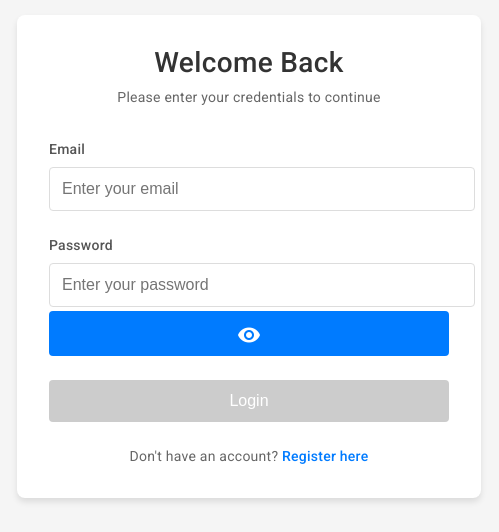
Test case: Login Flow › should validate email format in real-time
In the field named "email": (262, 189) [49,167,475,211], type "invalid"
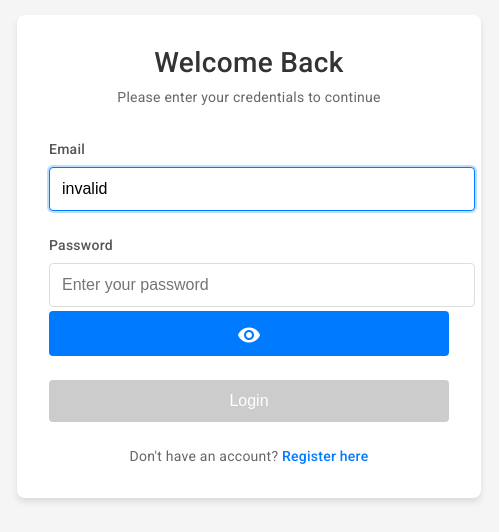
Leave the field named "email", box [49,167,475,211]
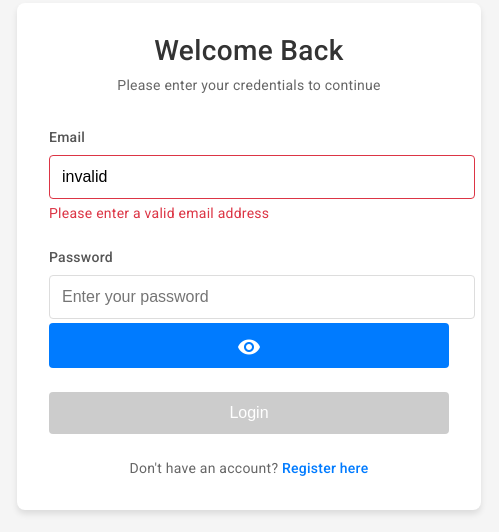
Check: the text with class "error-message" reads "Please enter a valid email address", box [49,205,269,221]
Replace the text in the field named "email" with "valid@example.com": (262, 177) [49,155,475,199]
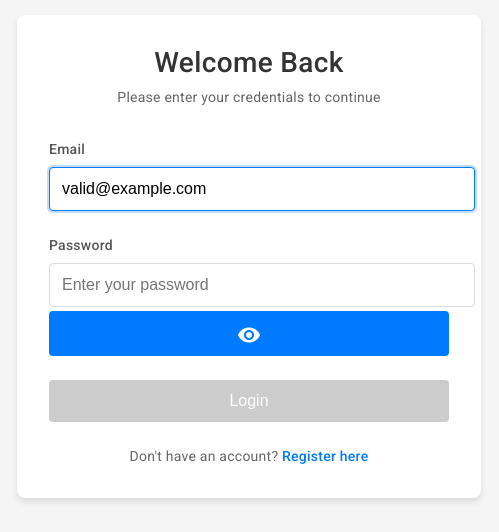
Check: the element with class "error-message" is gone
